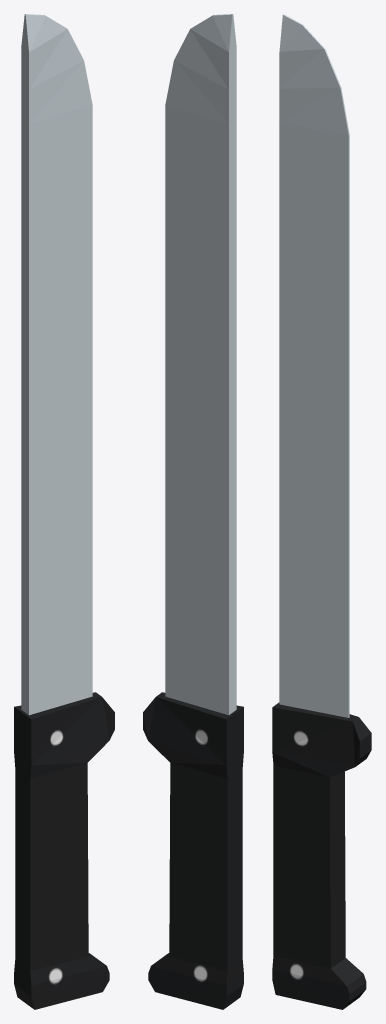
Rendered from Machete.dae.
3 views of the same model, side by side, from view 1: azimuth 30°, elevation 25°; view 2: azimuth 150°, elevation 25°; view 3: azimuth 330°, elevation 25° (orthographic).
Visible parts, largest first — view 1: Cube.007; view 2: Cube.007; view 3: Cube.007.
Boxes of the visible parts, x1=… form: Cube.007: x1=14, y1=14, x2=114, y2=1009; Cube.007: x1=143, y1=14, x2=243, y2=1009; Cube.007: x1=272, y1=14, x2=371, y2=1009.
Bounding box in the file's own units: 0.088 × 0.0307 × 0.965.
Materials: 2 (1 with a texture image).
